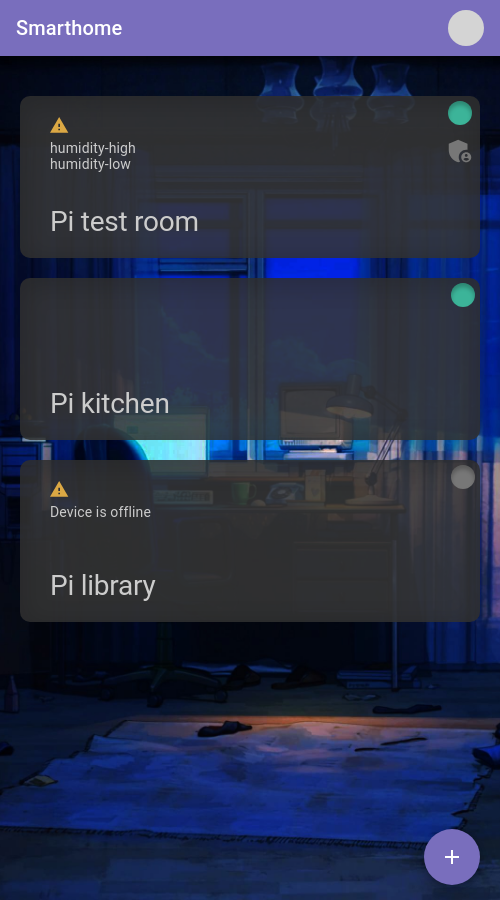
Scenario: App component › home page have a addDevice Button and dialog
Click the button with test id "pair-device-button". click: (452, 857)
box: [424,829,480,885]
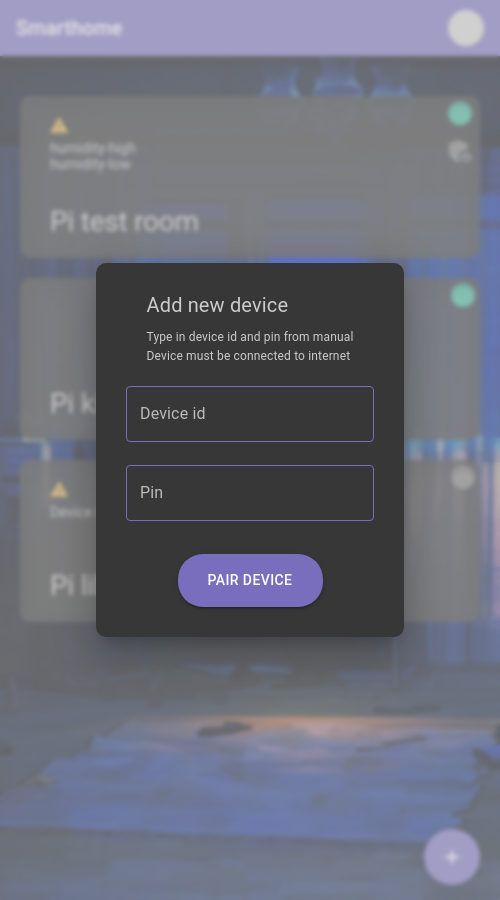
Now the element with test id "pair-device-dialog" is shown, box [126,293,374,607]
